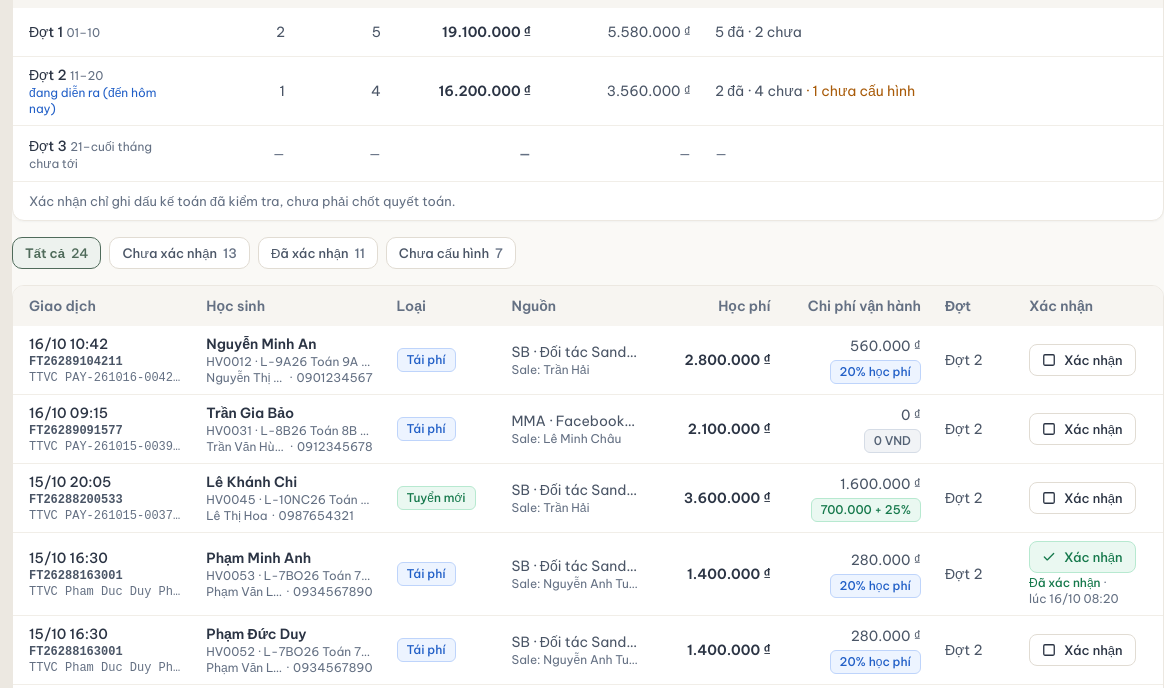
Scenario: /dev/lists finance orders preview › owner: default month from the fixture clock, pages, student links, and a review that only reaches the stub
(page scrolled)
Click the button with aria-label "Xác nhận đơn FT26289104211" at (1082, 360), box [1029, 344, 1136, 376]
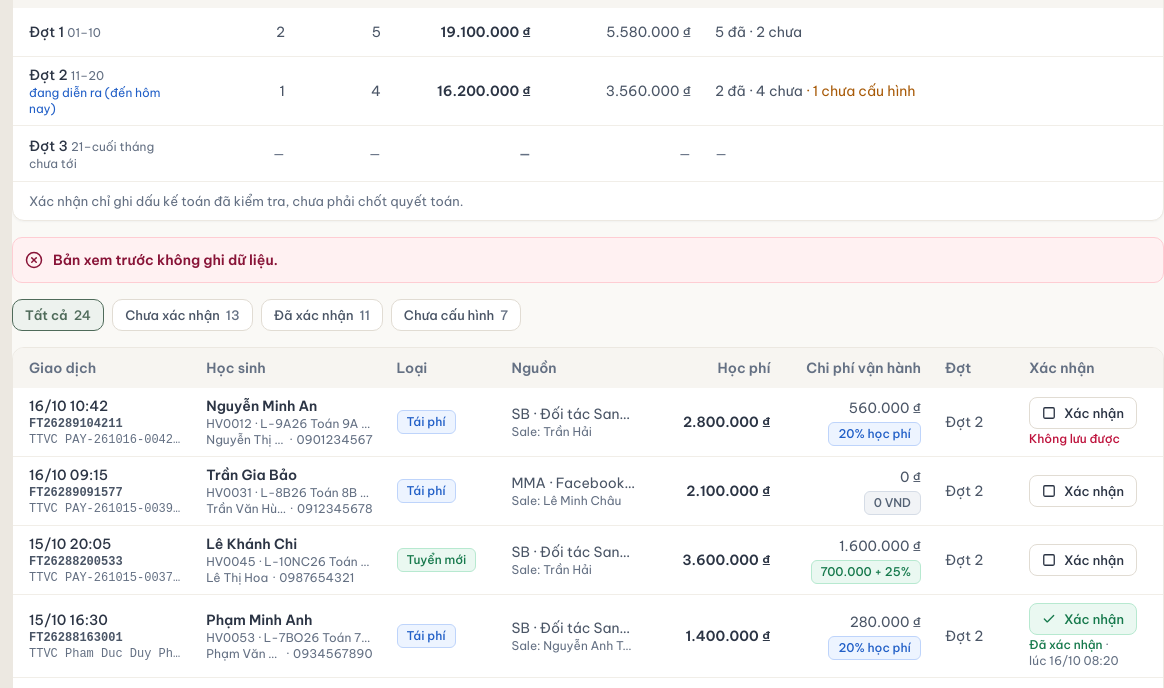
Result: the message reads "Bản xem trước không ghi dữ liệu." at [53, 251, 278, 269]
